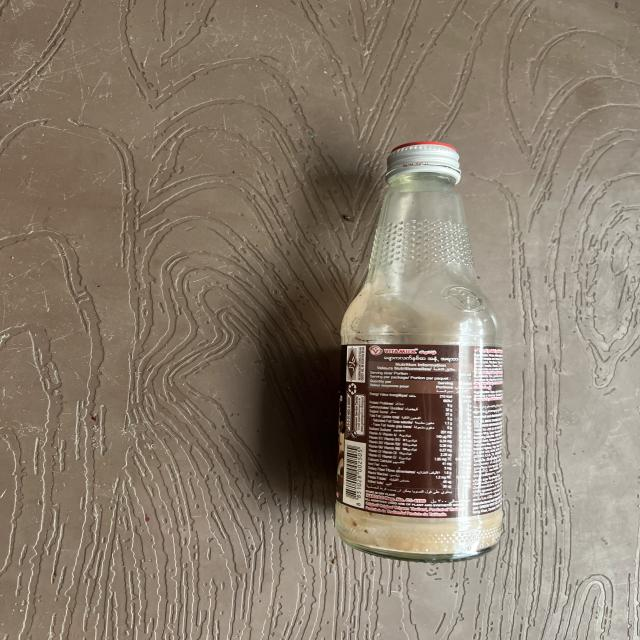REJECT: (332, 146, 570, 560)
